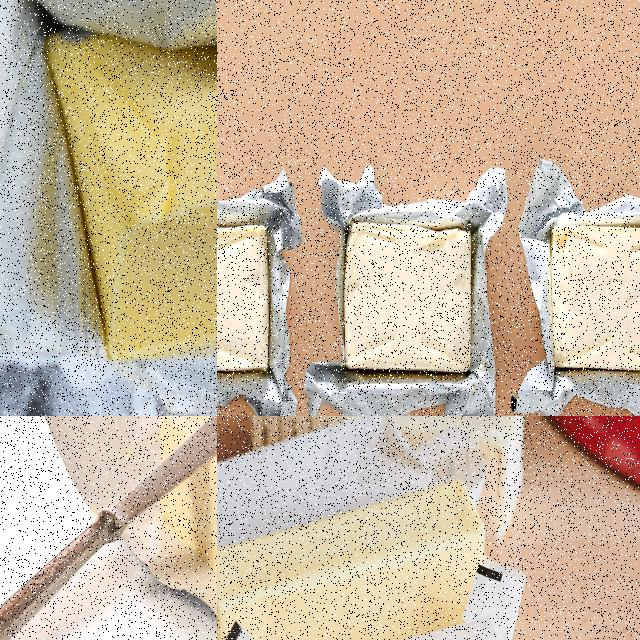butter: (39, 0, 216, 372), (217, 481, 484, 639), (338, 221, 472, 399), (551, 223, 639, 367), (153, 416, 216, 592), (217, 222, 273, 374)
